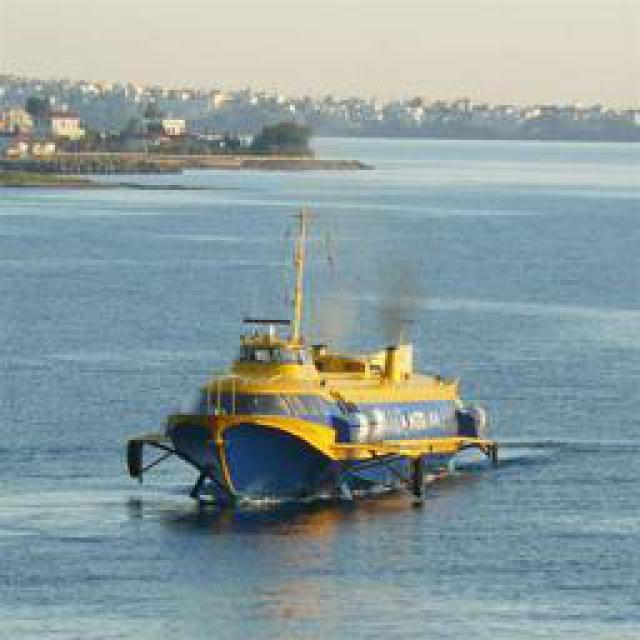Ship: (142, 235, 502, 513)
